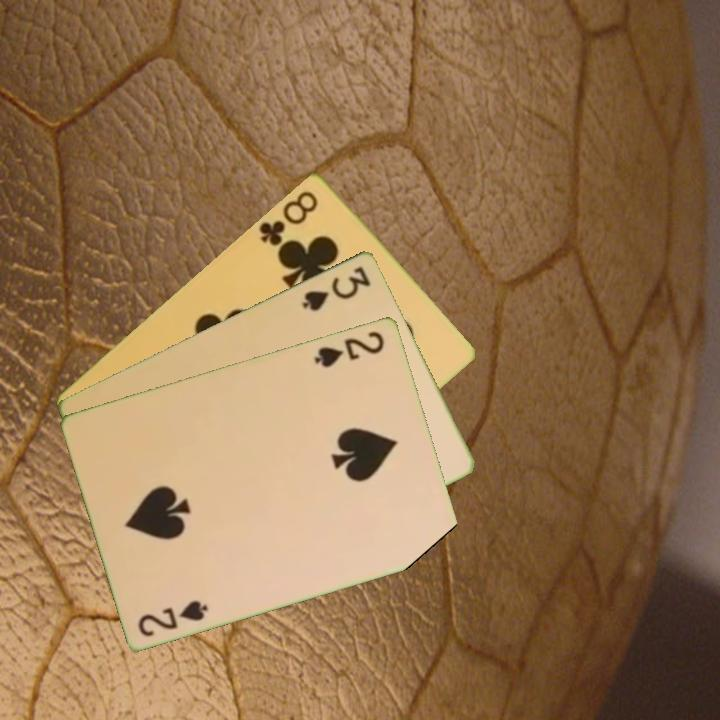2s: (311, 327, 388, 370), (134, 596, 211, 639)
3s: (299, 262, 374, 314)
8c: (255, 186, 321, 252)
